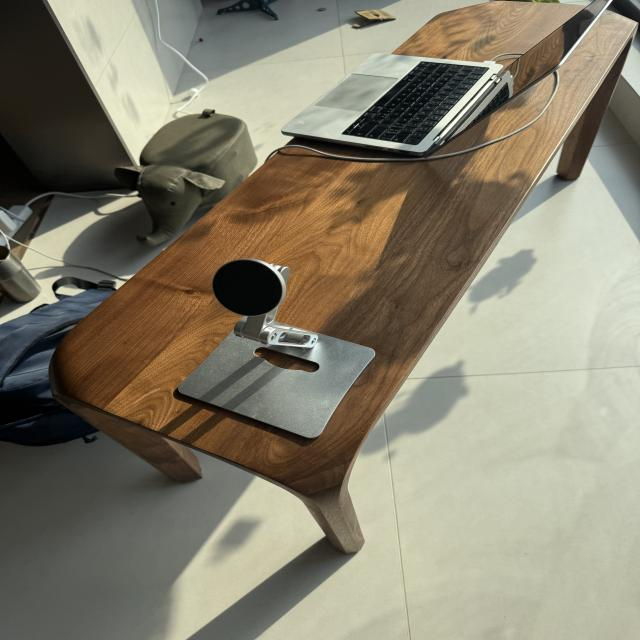phone holder: (165, 254, 392, 445)
